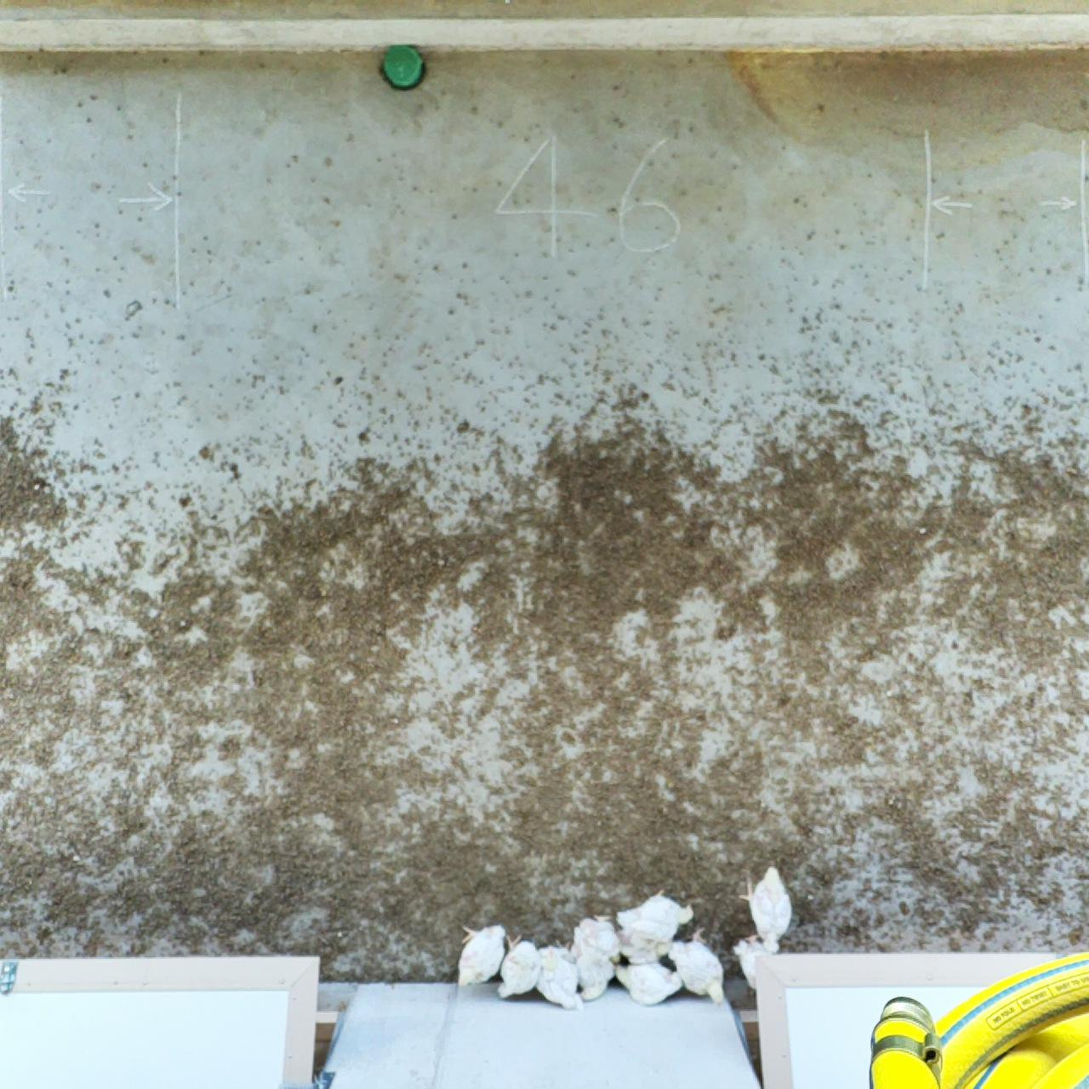chicken: (661, 921, 729, 1009), (738, 862, 795, 956), (570, 909, 620, 1005), (613, 885, 697, 941), (450, 918, 510, 990), (533, 935, 584, 1014), (609, 959, 686, 1008), (490, 928, 542, 999), (730, 932, 777, 993), (612, 926, 675, 964)
